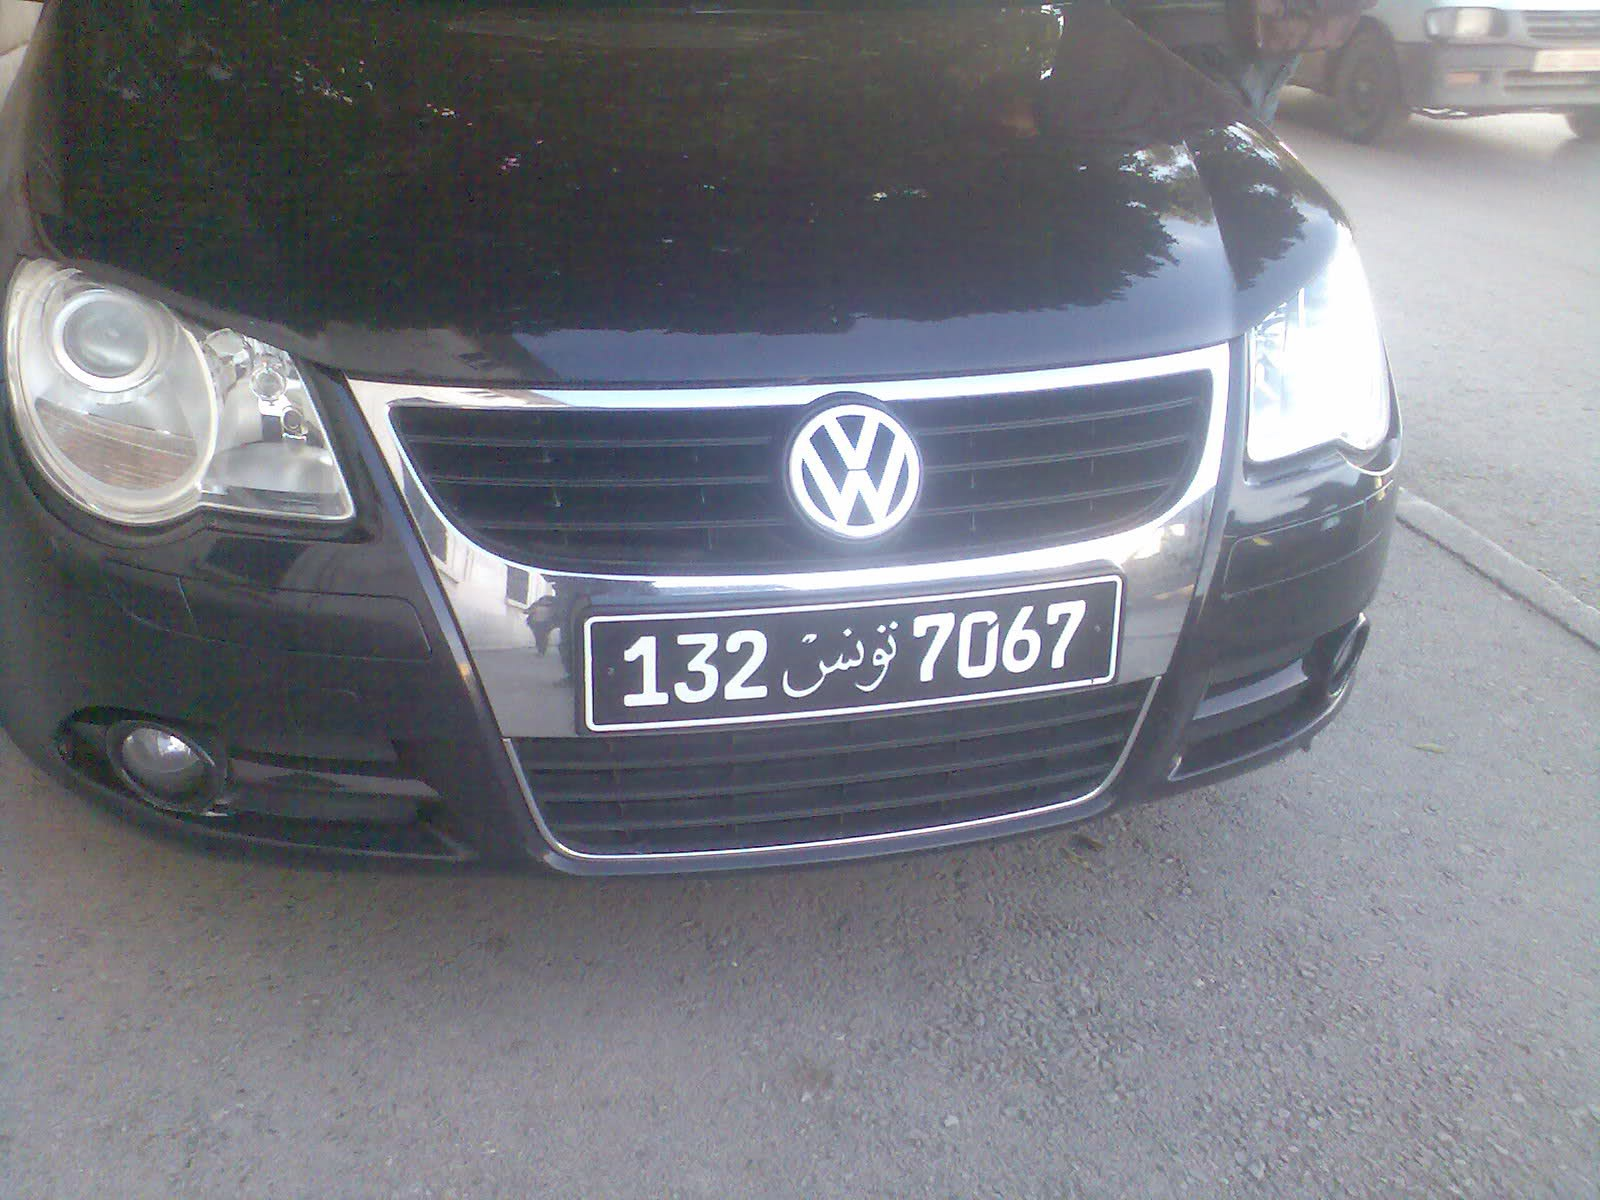LP: (563, 571, 1131, 739)
